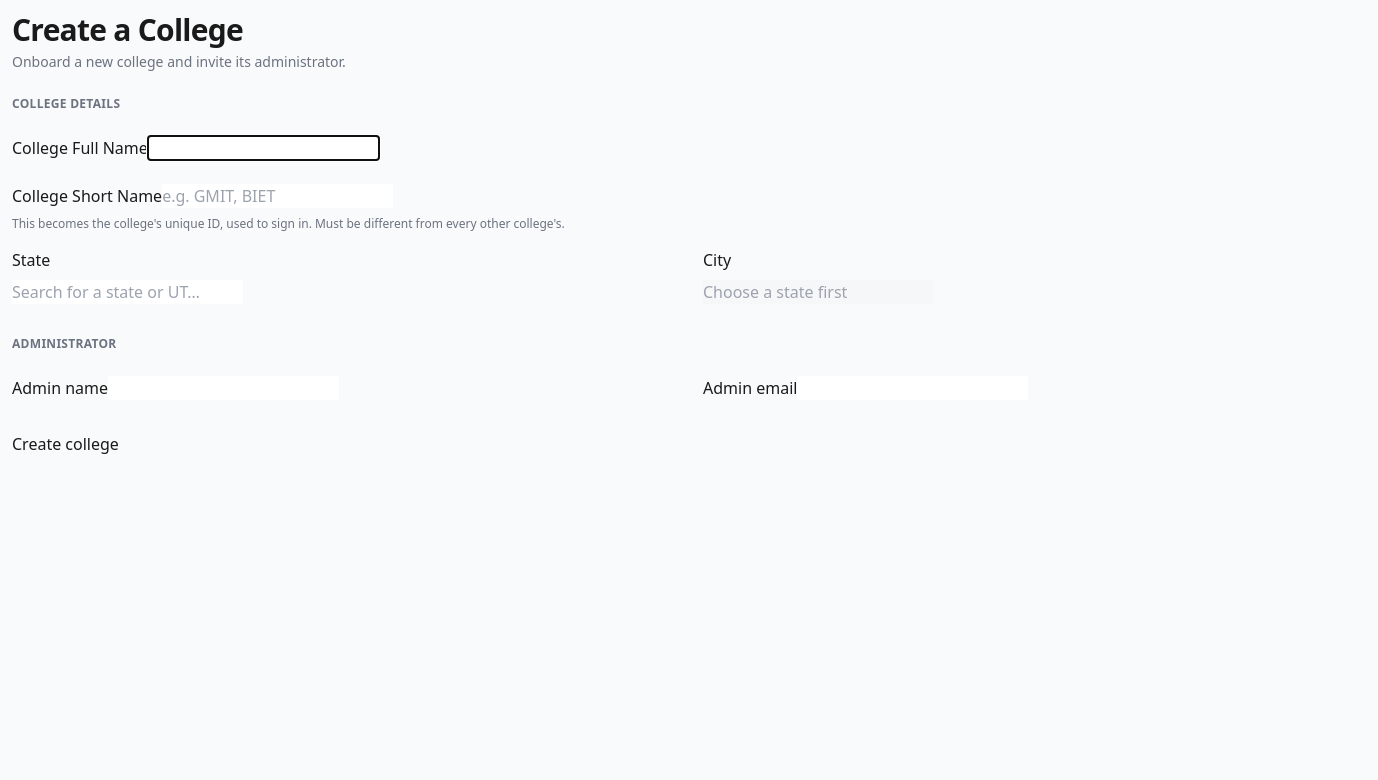
Test: CreateCollege › reverts a custom city back to normal searching if the field is cleared
Type "Karnat" into the dropdown labelled "State".
click(128, 292); type("Karnat")  # box x1=12 y1=280 x2=243 y2=304
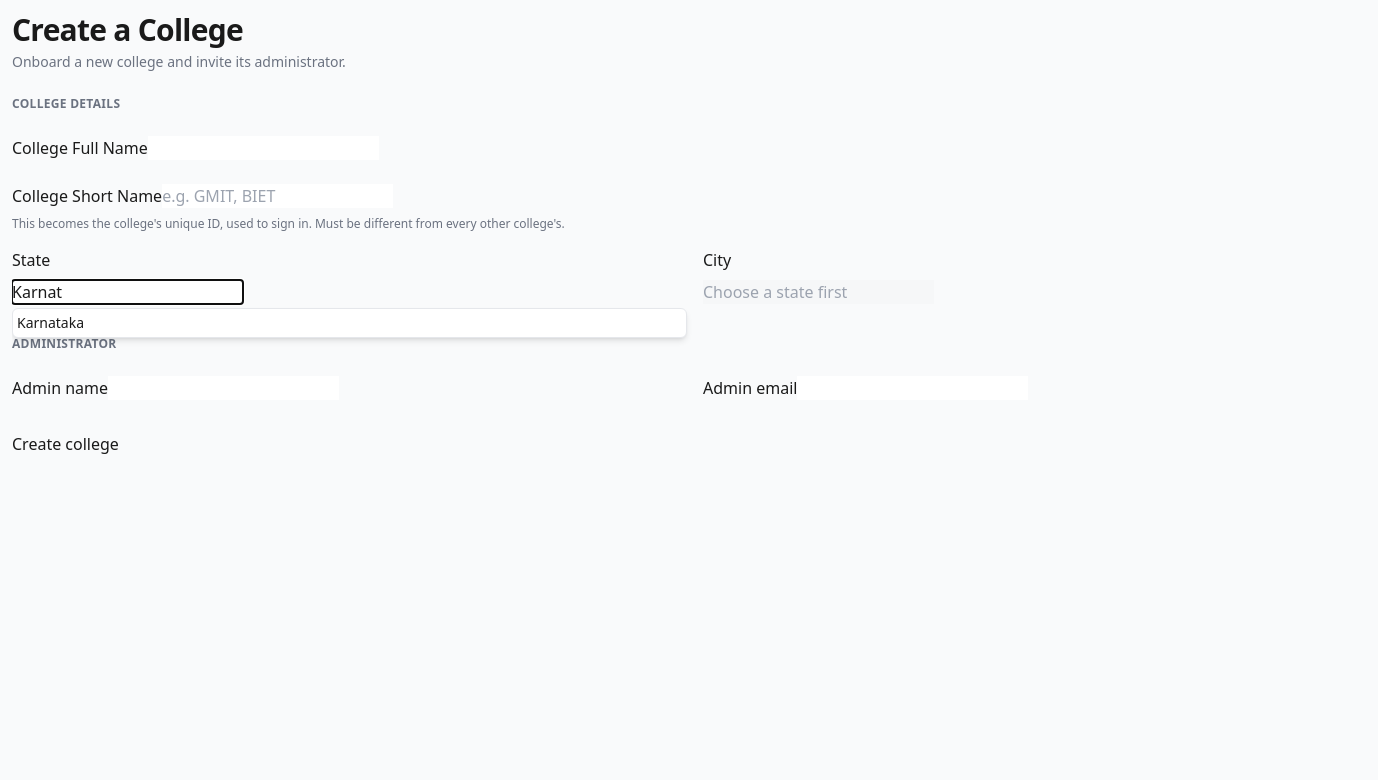
Click the option "Karnataka".
click(50, 322)  # box x1=17 y1=313 x2=84 y2=332
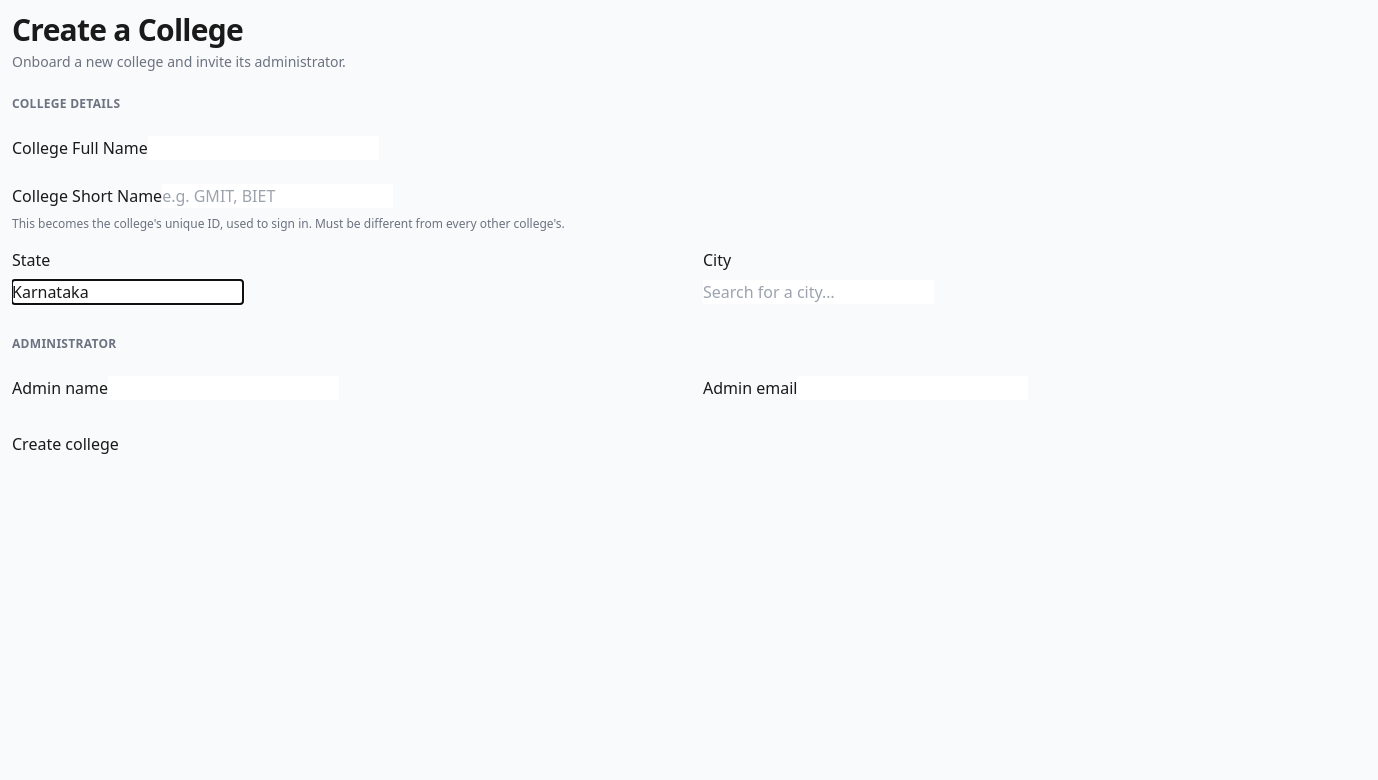
Type "Somewhere Else" into the dropdown labelled "City".
click(818, 292); type("Somewhere Else")  # box x1=703 y1=280 x2=934 y2=304
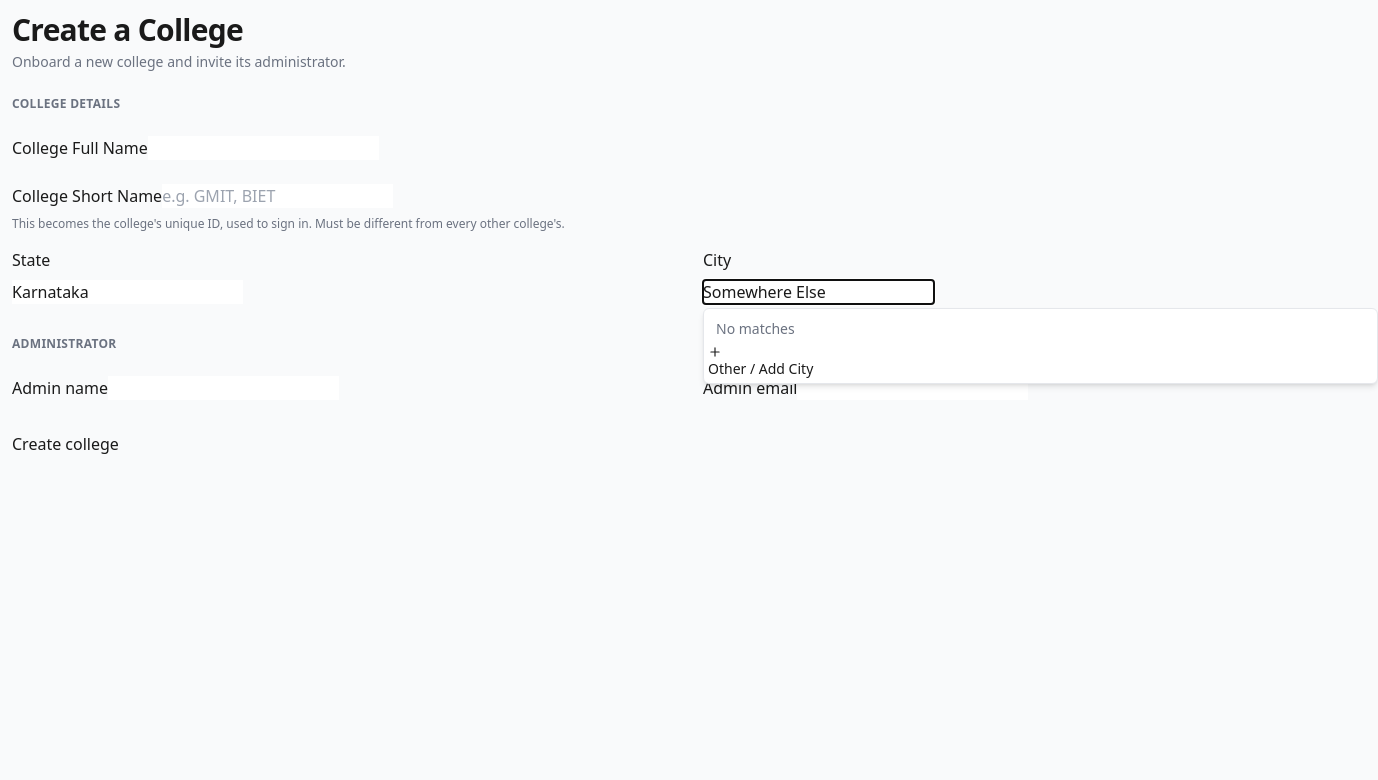
Click the option "Other / Add City".
click(761, 362)  # box x1=708 y1=345 x2=813 y2=378
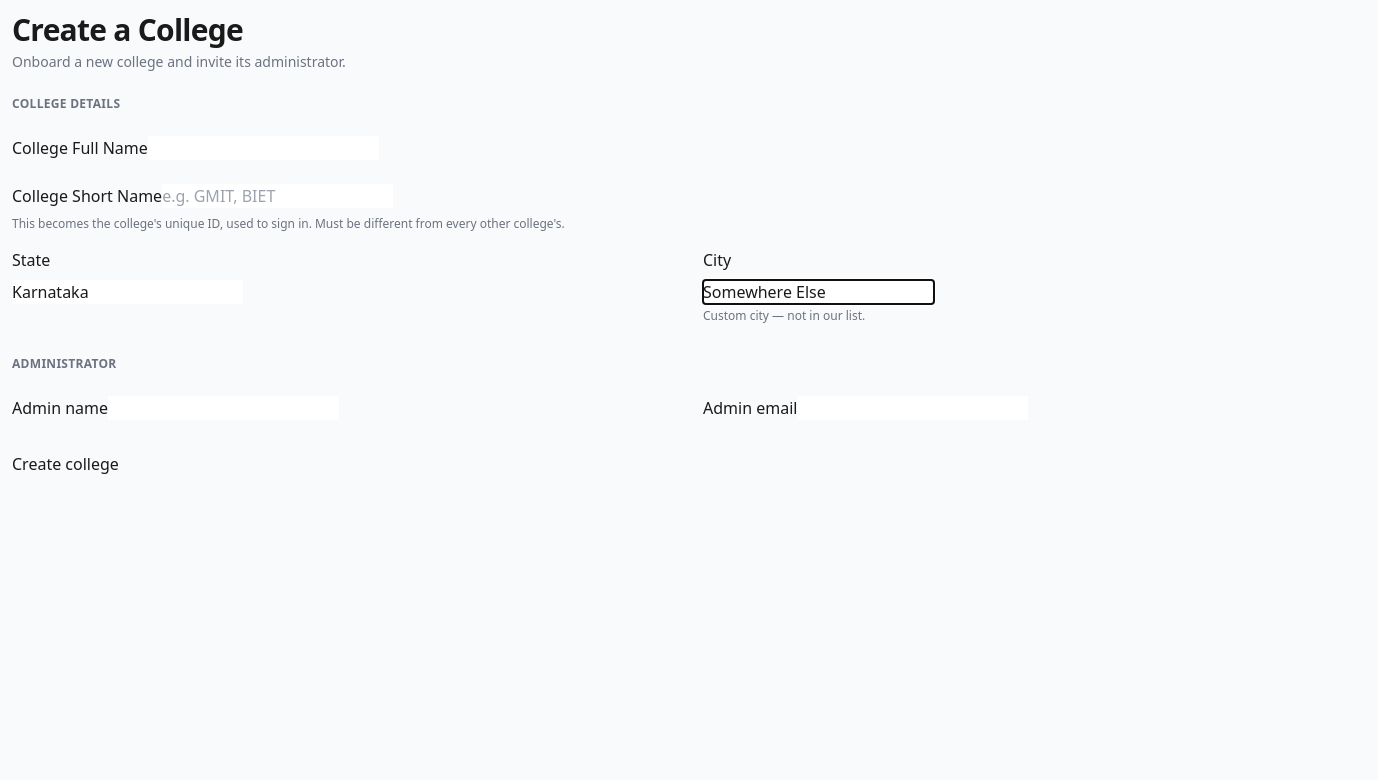
expect the text "Custom city — not in our list." is shown: met, box x1=703 y1=307 x2=865 y2=324
Clear the dropdown labelled "City" at (818, 292), box x1=703 y1=280 x2=934 y2=304
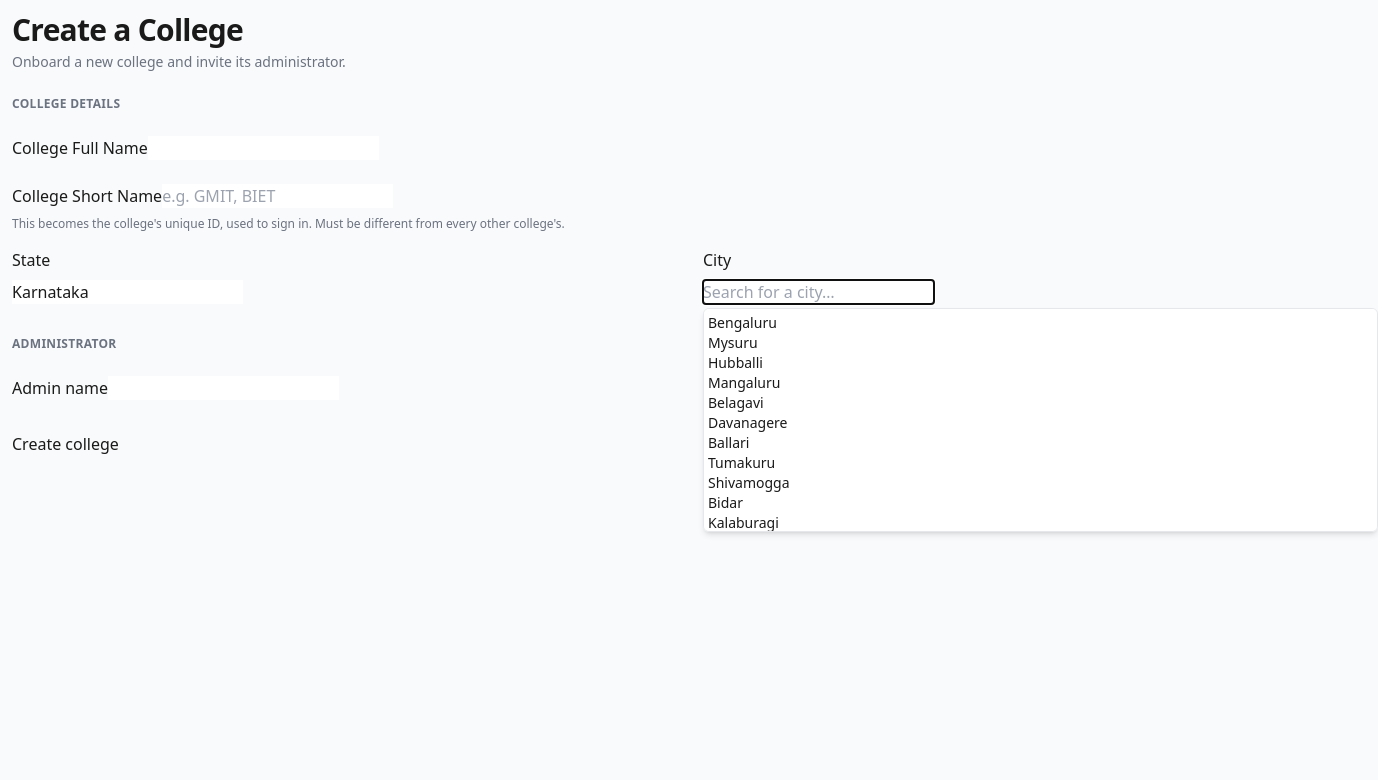
expect the text "Custom city" is gone: met
expect the option "Bengaluru" is shown: met, box x1=708 y1=313 x2=777 y2=332
